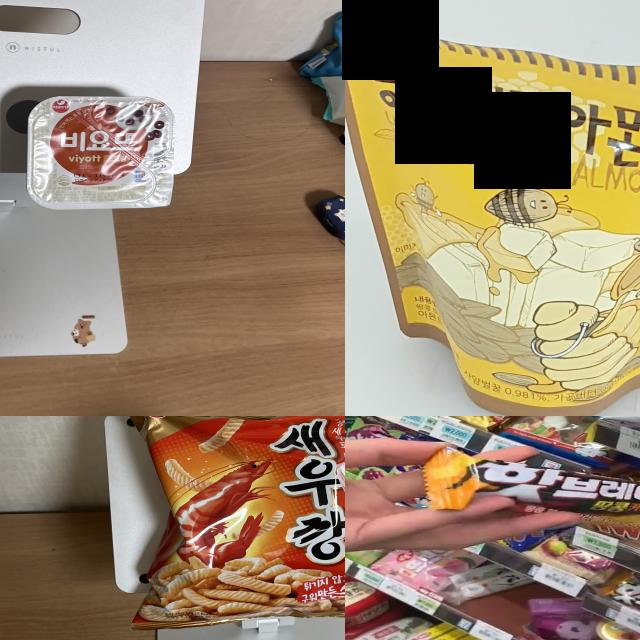bYott: (40, 103, 169, 206)
honeyAmond: (345, 1, 640, 415)
hotBreak: (428, 463, 640, 528)
shrimpGGang: (160, 416, 345, 602)
